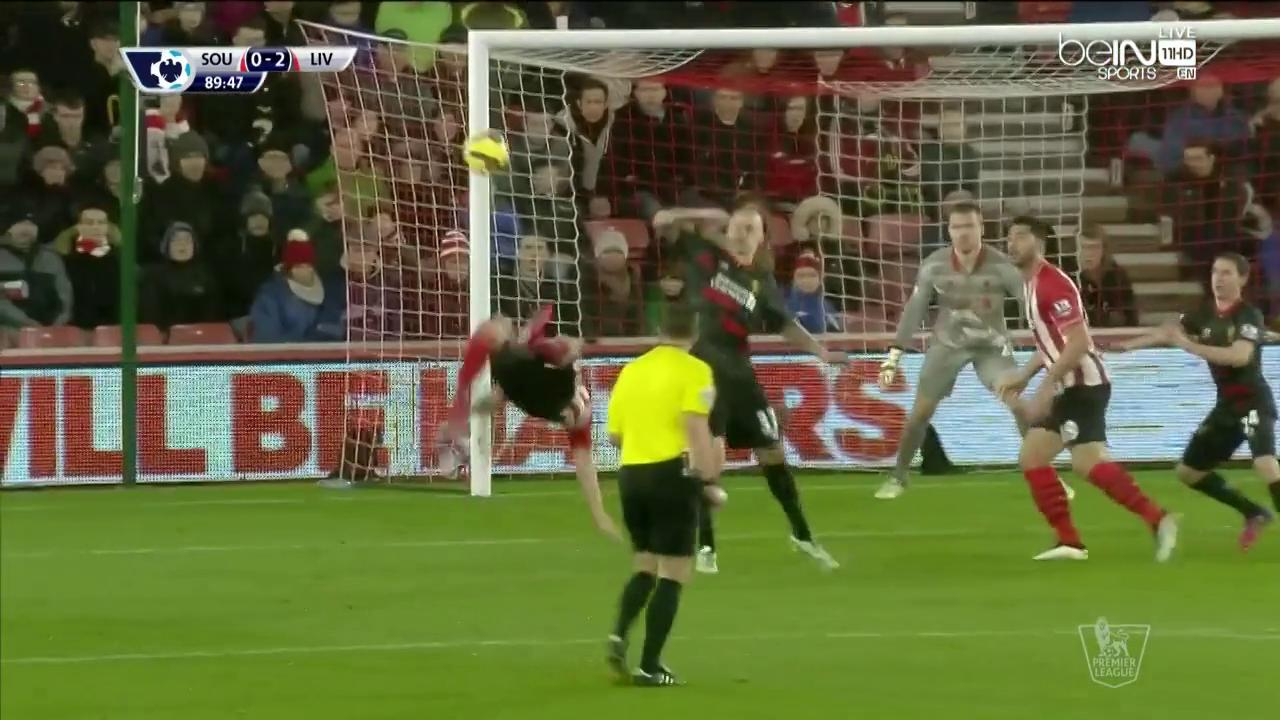football: (460, 122, 515, 180)
